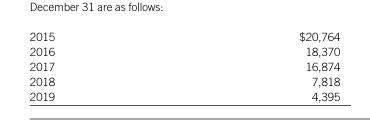table: (28, 29, 339, 102)
table column: (176, 29, 339, 102), (28, 29, 176, 102)
table row: (28, 43, 339, 58), (28, 58, 339, 73), (28, 73, 339, 88), (28, 29, 339, 43), (28, 88, 339, 102)
